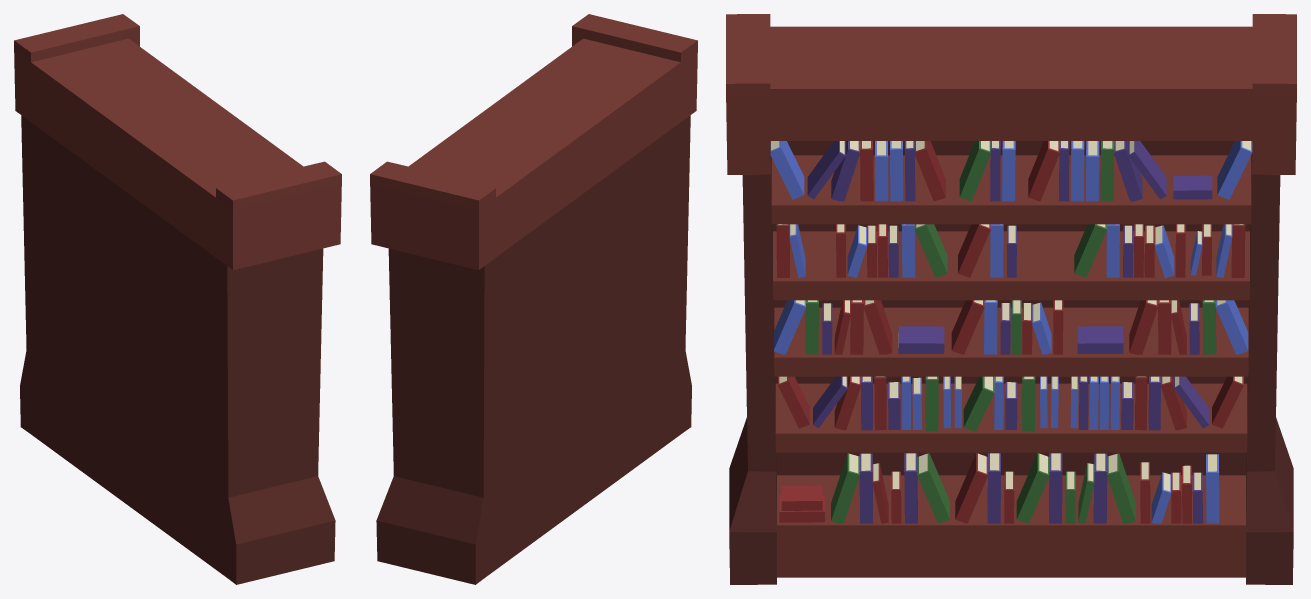
The model's file is BookCaseLargeBooks.glb.
3 views of the same model, side by side, from view 1: azimuth 30°, elevation 25°; view 2: azimuth 150°, elevation 25°; view 3: azimuth 270°, elevation 25° (orthographic). The views are drawn at different scales.
Visible parts, largest first — view 1: BookCaseLargeBooks; view 2: BookCaseLargeBooks; view 3: BookCaseLargeBooks.
Part boxes in pixels (<box>): BookCaseLargeBooks: <box>14,14,341,584</box>; BookCaseLargeBooks: <box>370,14,697,584</box>; BookCaseLargeBooks: <box>726,14,1296,584</box>.
Bounding box in the file's own units: 0.452 × 1.53 × 1.57.
